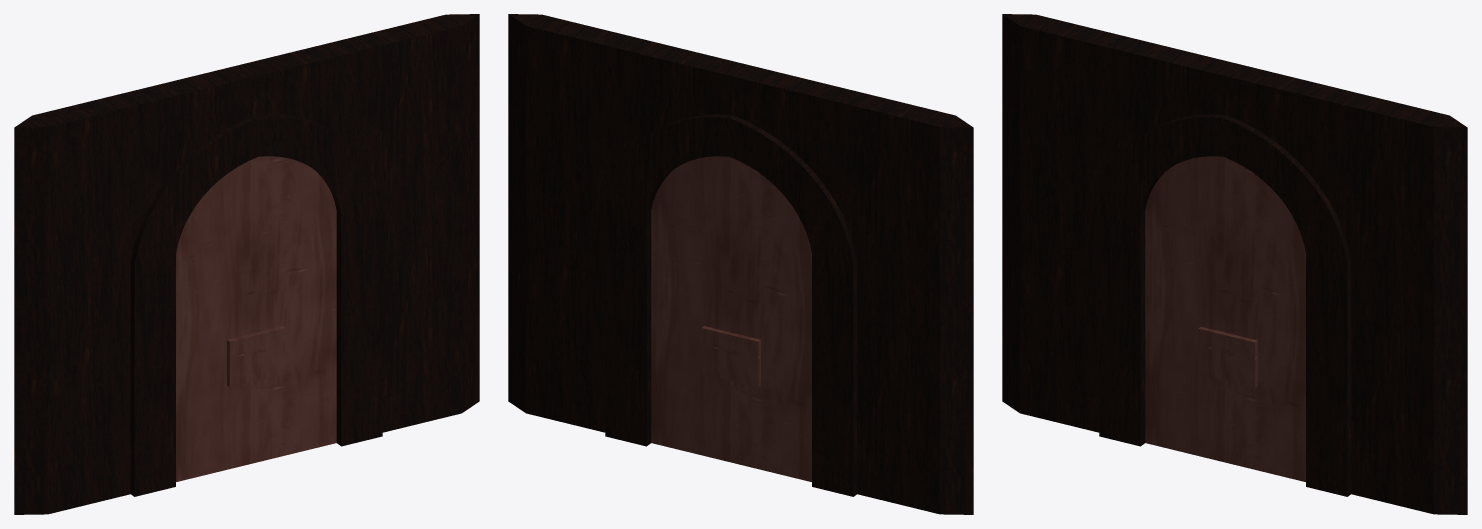
Rendered from wooden-door.glb.
3 renders of one model, left to right at view 1: azimuth 30°, elevation 25°; view 2: azimuth 150°, elevation 25°; view 3: azimuth 330°, elevation 25°, orthographic.
Parts seen in each view (by area): view 1: doorway_arch, door; view 2: doorway_arch, door; view 3: doorway_arch, door.
Boxes of the visible parts, x1,y1,x2,y2 form: doorway_arch: (14, 14, 479, 514); door: (176, 156, 336, 481); doorway_arch: (508, 14, 973, 514); door: (651, 156, 811, 481); doorway_arch: (1002, 14, 1467, 514); door: (1145, 156, 1305, 481).
Size of the model in its own units: 2.14 by 1.7 by 0.185.
4 materials, 4 textured.
